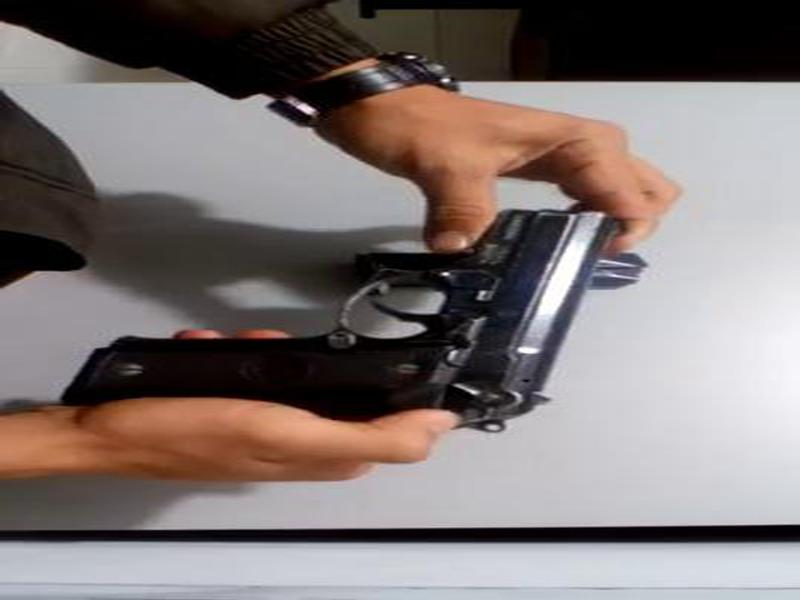Pistola: (57, 195, 643, 460)
